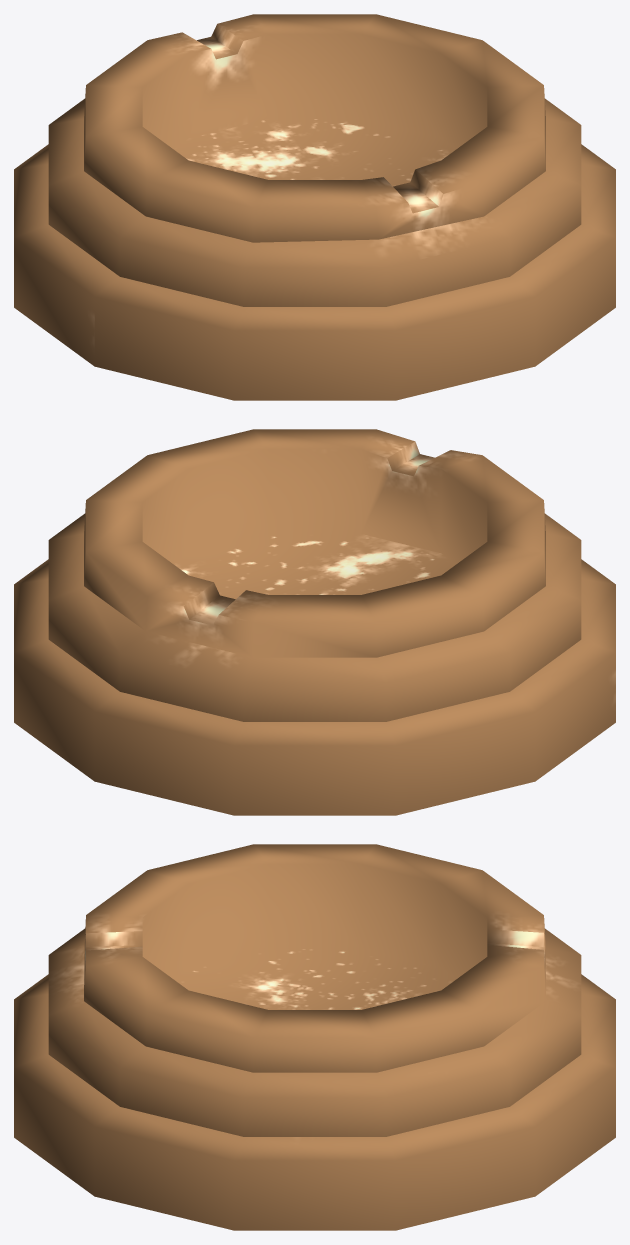
The model's file is ashtrayBrown.fbx.
3 renders of one model, top to bottom at view 1: azimuth 30°, elevation 25°; view 2: azimuth 150°, elevation 25°; view 3: azimuth 270°, elevation 25°, orthographic.
Visible parts, largest first — view 1: ashtrayBrown; view 2: ashtrayBrown; view 3: ashtrayBrown.
Part boxes in pixels (x1,y1,x2,y2): ashtrayBrown: [14, 14, 615, 400]; ashtrayBrown: [14, 429, 615, 815]; ashtrayBrown: [14, 844, 615, 1230].
Bounding box in the file's own units: 0.1646 × 0.0502 × 0.1646.
1 material, 1 textured.
